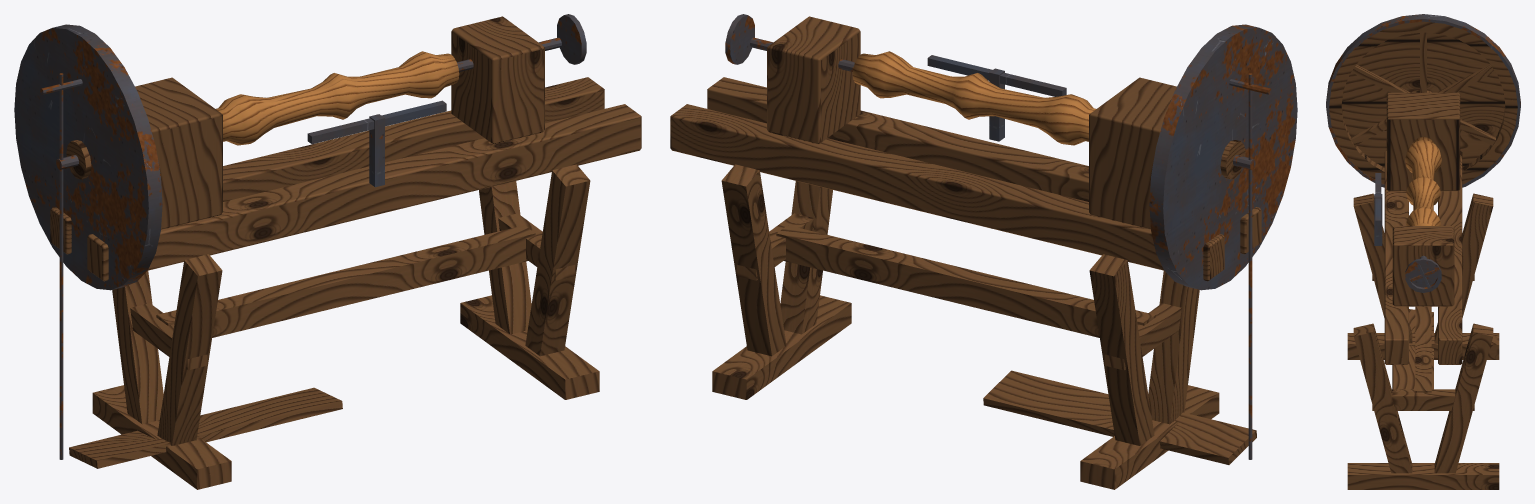
The model's file is Lathe.glb.
3 renders of one model, left to right at view 1: azimuth 30°, elevation 25°; view 2: azimuth 150°, elevation 25°; view 3: azimuth 270°, elevation 25°, orthographic. The views are drawn at different scales.
Visible parts, largest first — view 1: Lathe; view 2: Lathe; view 3: Lathe.
Boxes of the visible parts, bbox=[...] form: Lathe: bbox=[14, 14, 641, 489]; Lathe: bbox=[670, 14, 1297, 489]; Lathe: bbox=[1326, 14, 1520, 489].
Bounding box in the file's own units: 2.34 × 1.68 × 0.95.
Materials: 3 (3 with a texture image).
